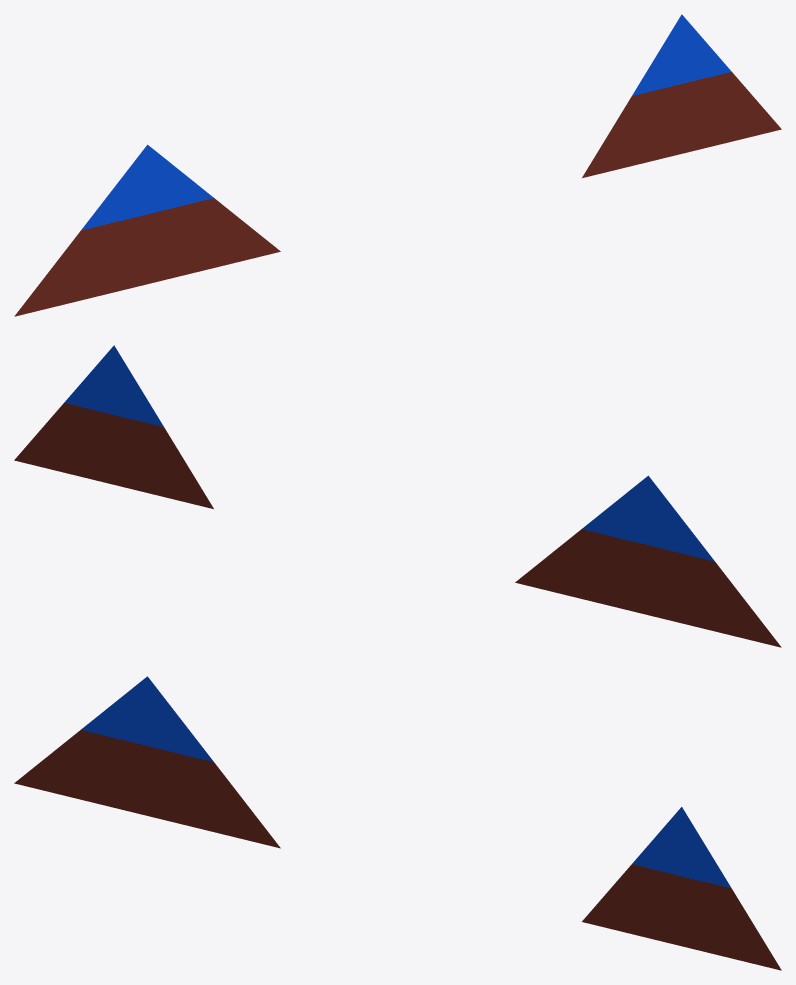
The model's file is district.gltf.
3 renders of one model, top to bottom at view 1: azimuth 30°, elevation 25°; view 2: azimuth 150°, elevation 25°; view 3: azimuth 330°, elevation 25°, orthographic.
Visible parts, largest first — view 1: EastBoundaryMarker, EastInteriorMarker; view 2: EastBoundaryMarker, EastInteriorMarker; view 3: EastBoundaryMarker, EastInteriorMarker.
Part boxes in pixels (<box>): EastBoundaryMarker: <box>14,144,280,316</box>; EastInteriorMarker: <box>582,14,781,177</box>; EastBoundaryMarker: <box>515,475,781,647</box>; EastInteriorMarker: <box>14,345,213,508</box>; EastBoundaryMarker: <box>14,676,280,848</box>; EastInteriorMarker: <box>582,807,781,970</box>.
Size of the model in its own units: 5.75 by 1 by 0.
1 material, 1 textured.
